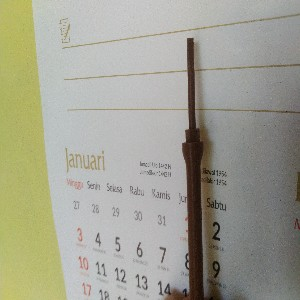obeng: (181, 36, 203, 300)
